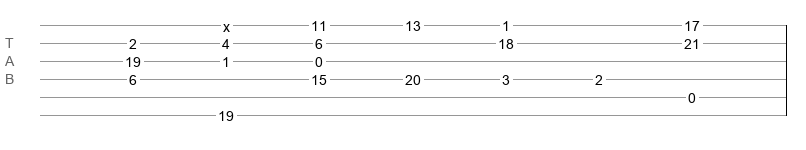0: (315, 54, 323, 64), (688, 90, 696, 100)
1: (222, 54, 230, 64), (502, 18, 510, 28)
11: (311, 18, 327, 28)
13: (405, 18, 421, 28)
15: (311, 72, 327, 82)
17: (684, 18, 700, 28)
18: (498, 36, 514, 46)
19: (125, 54, 141, 64), (218, 108, 234, 118)
2: (129, 36, 137, 46), (595, 72, 603, 82)
20: (405, 72, 421, 82)
21: (684, 36, 700, 46)
3: (502, 72, 510, 82)
4: (222, 36, 230, 46)
6: (129, 72, 137, 82), (315, 36, 323, 46)
x: (223, 19, 230, 27)
